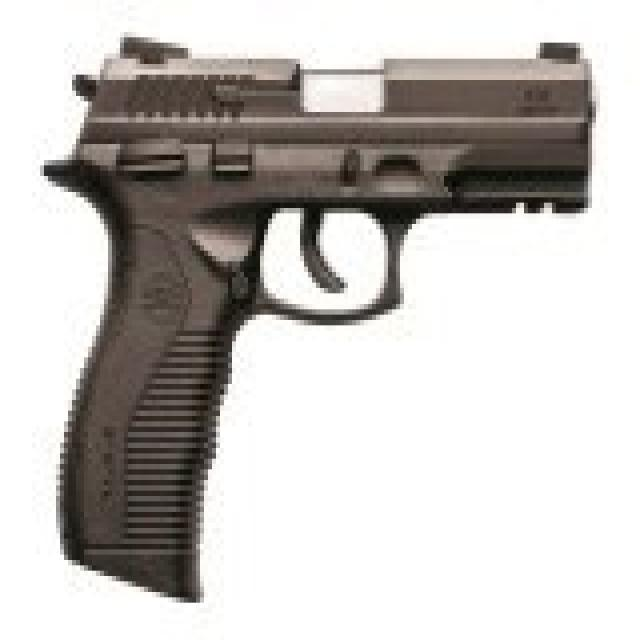Gun: (46, 11, 610, 582)
